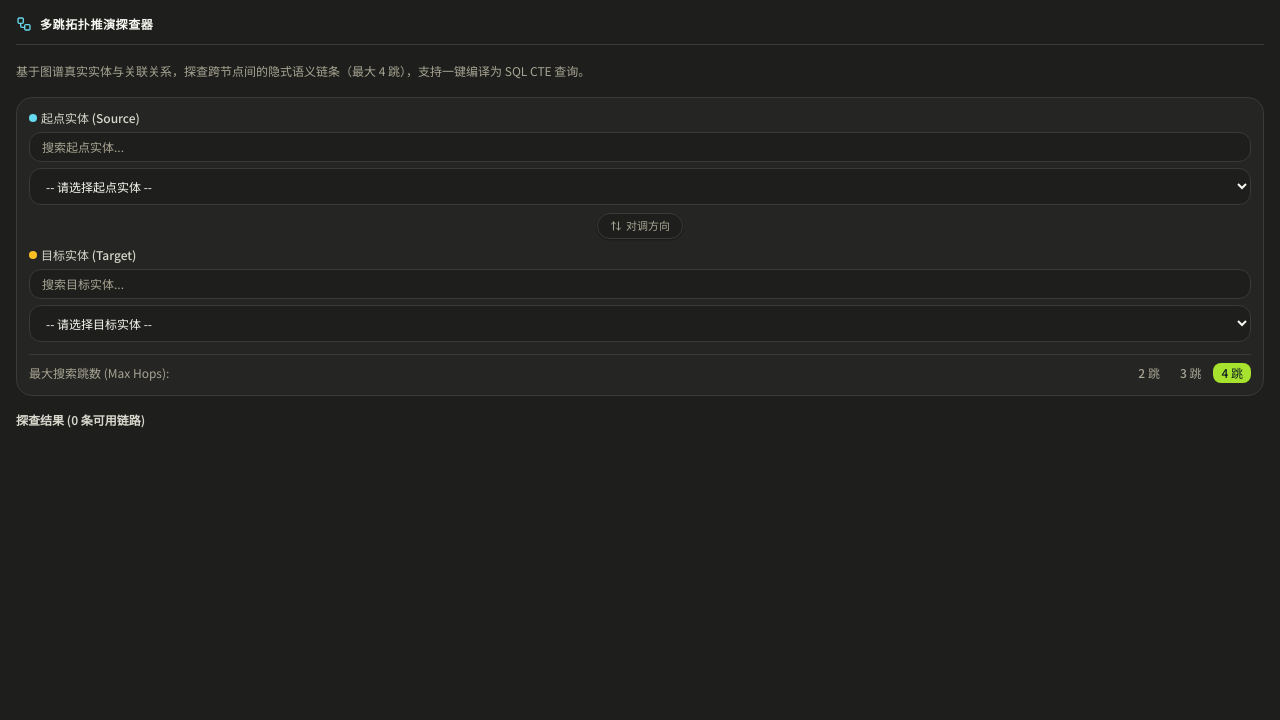
Test: MultiHopDeductionExplorer Component › toggles inline SQL CTE preview when SQL button is clicked
Select "用户A (用户)" in the dropdown showing "-- 请选择起点实体 --" below "起点实体 (Source)": [640, 186] box left=29, top=168, right=1251, bottom=204
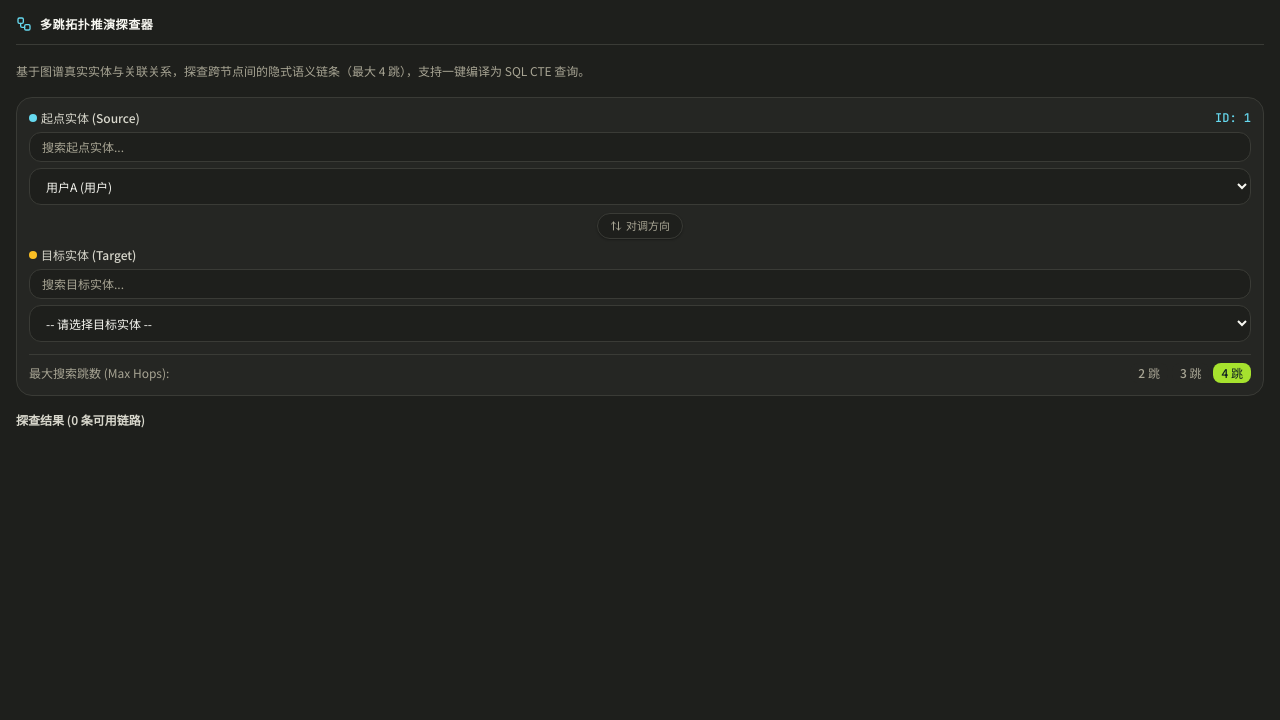
Select "商品C (商品)" in the dropdown showing "-- 请选择目标实体 --" below "目标实体 (Target)": [640, 323] box left=29, top=304, right=1251, bottom=342
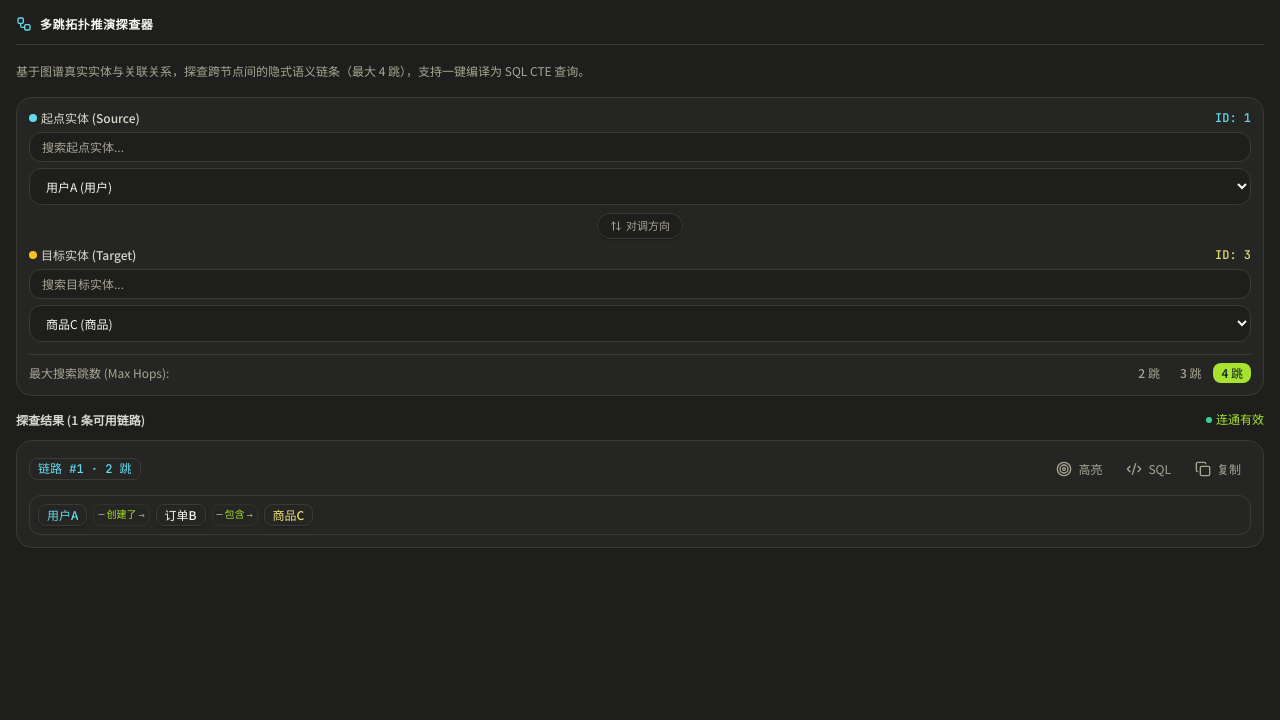
Click the button "SQL": [1149, 468] box left=1116, top=452, right=1181, bottom=484
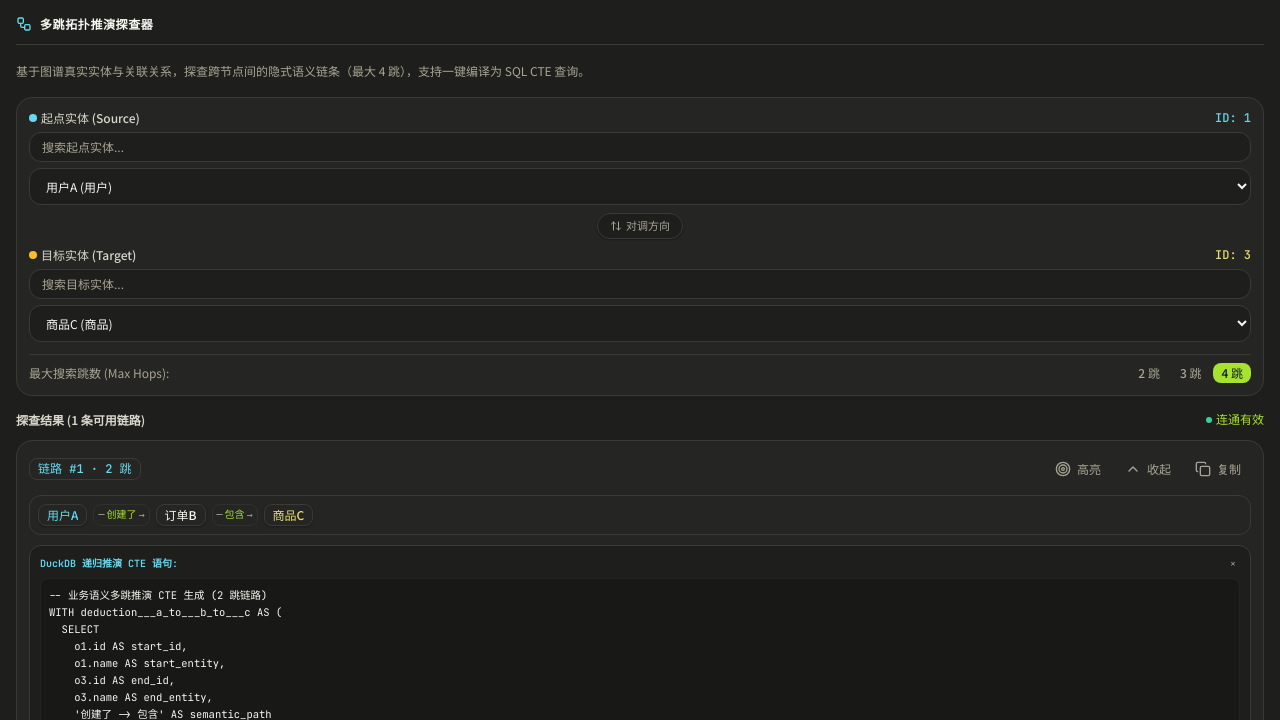
Result: the text "DuckDB 递归推演 CTE 语句:" is shown at left=40, top=556, right=178, bottom=572
// Click again to fold
Click the button "收起": [1148, 468] box left=1115, top=452, right=1181, bottom=484
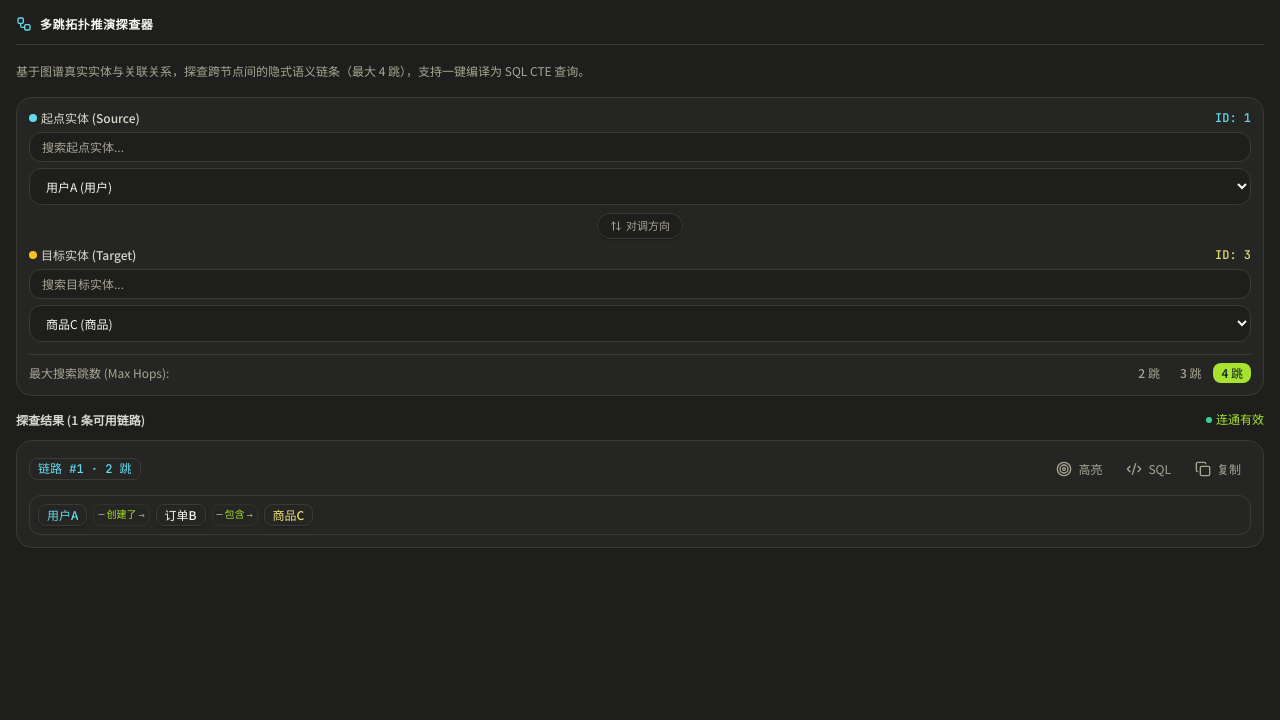
Result: the text "DuckDB 递归推演 CTE 语句:" is gone
